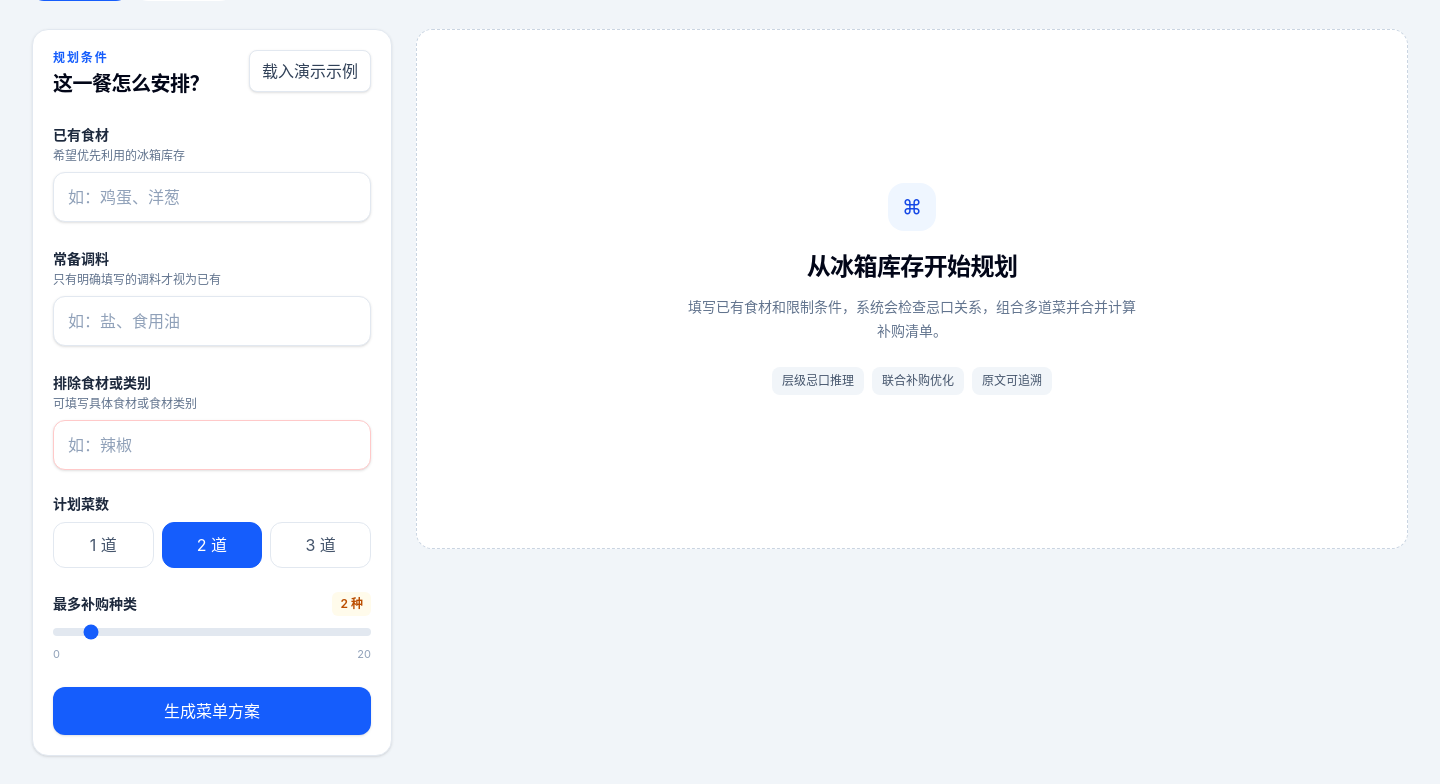
Test: CookKG planner page › shows an explicit business empty state
(page scrolled)
Click the button "生成菜单方案": (212, 710) [53,686,371,734]
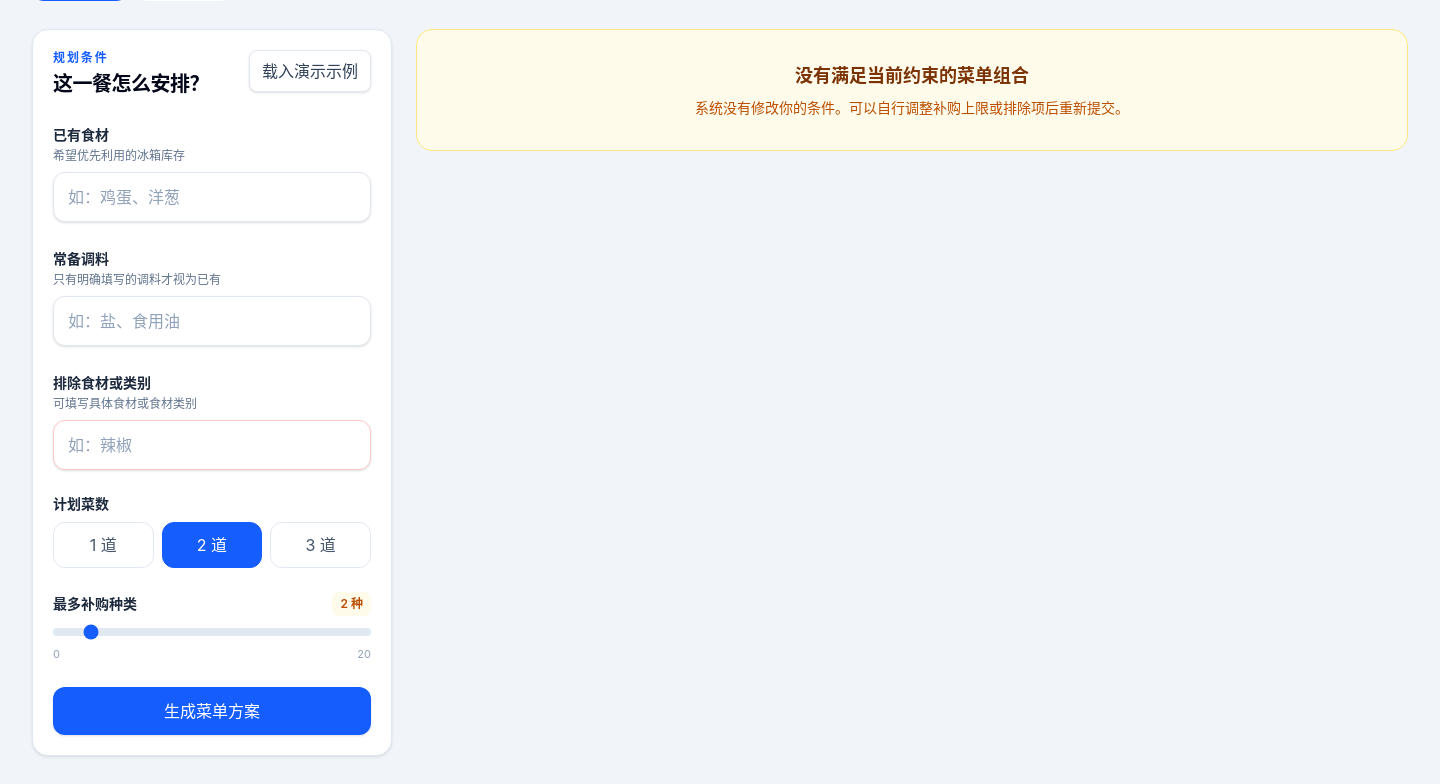
Result: the text "没有满足当前约束的菜单组合" is shown at [795,65,1029,86]
